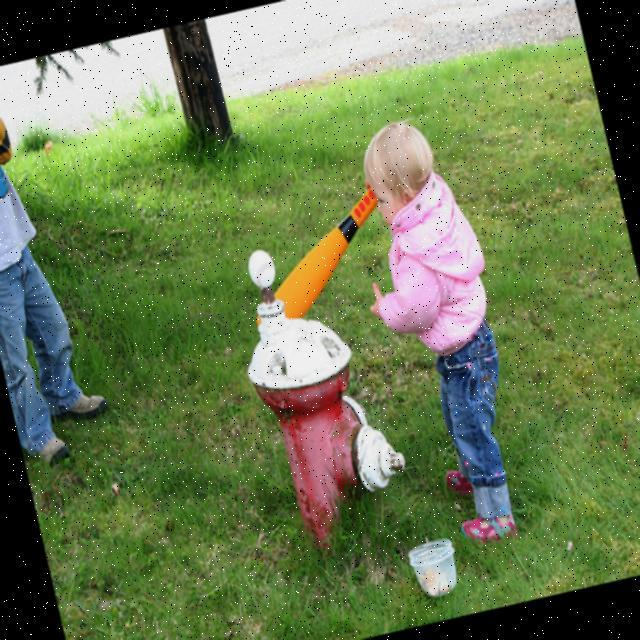fire_hydrant: (230, 260, 421, 564)
